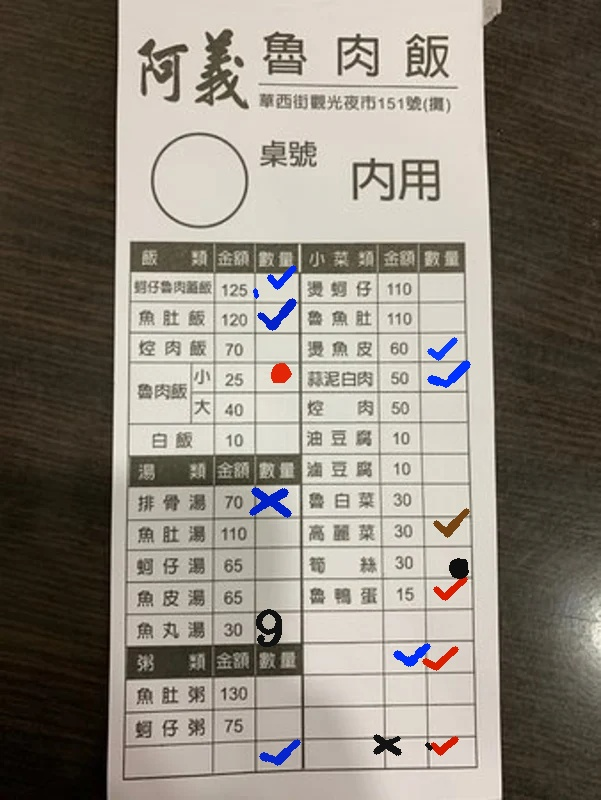marked_circle: (257, 363, 300, 391), (427, 549, 470, 577)
marked_number_9: (258, 613, 301, 641)
marked_tick: (428, 642, 471, 670), (421, 330, 464, 358), (429, 579, 472, 607), (431, 734, 474, 762), (382, 642, 425, 670), (256, 273, 299, 301), (256, 303, 299, 331), (259, 741, 302, 769), (421, 361, 464, 389), (426, 517, 469, 545)
marked_x: (257, 487, 300, 515), (384, 735, 427, 763)
